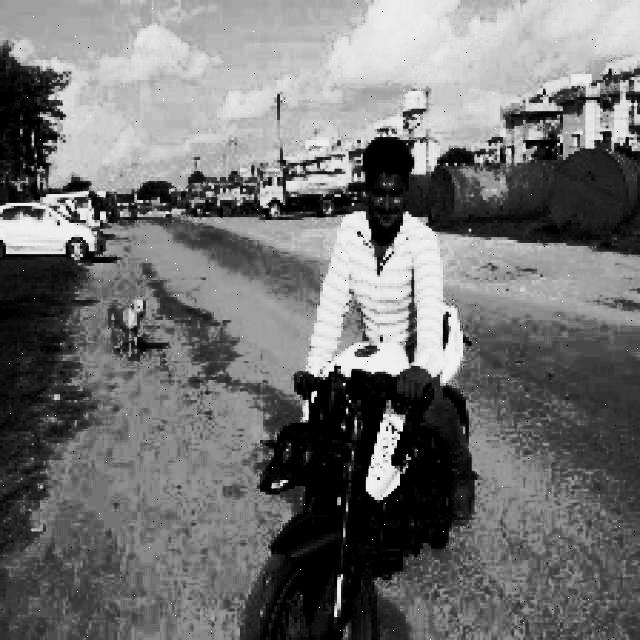Bike: (242, 346, 447, 640)
